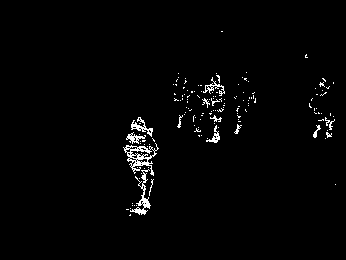person: (120, 115, 160, 217), (203, 72, 227, 146)
